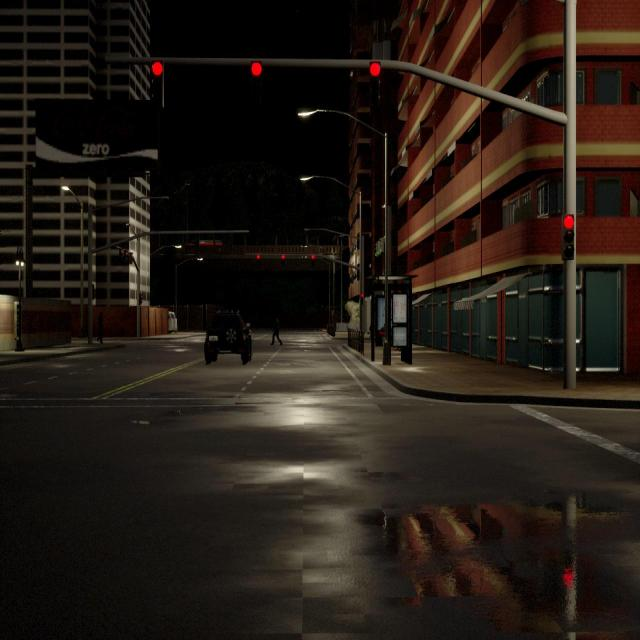Pedestrian: (271, 315, 282, 345), (95, 311, 104, 343)
Vehicle: (204, 311, 252, 364), (168, 312, 178, 332)
traffic_light: (562, 213, 576, 262), (152, 60, 163, 107), (250, 61, 262, 99), (370, 61, 380, 98), (119, 249, 123, 266), (124, 250, 128, 266), (360, 293, 364, 304), (139, 292, 142, 305), (256, 254, 260, 260), (130, 252, 132, 264), (311, 254, 314, 260), (282, 254, 284, 260)
